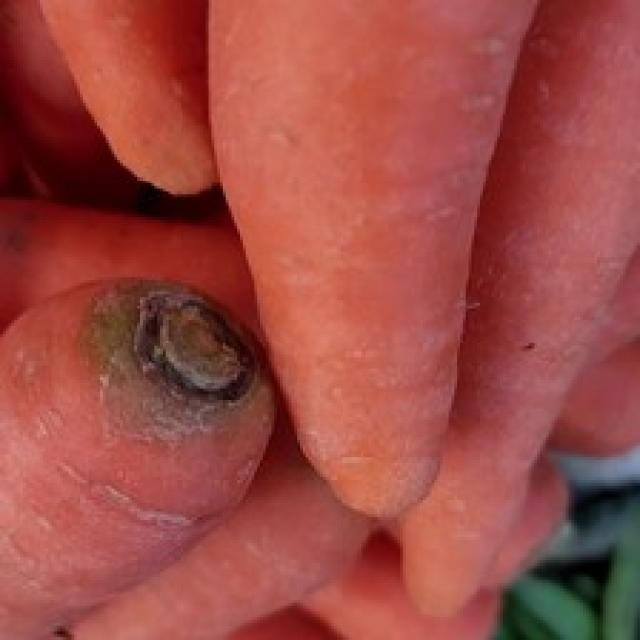Fresh_Carrot: (210, 0, 490, 507), (0, 279, 297, 606)
